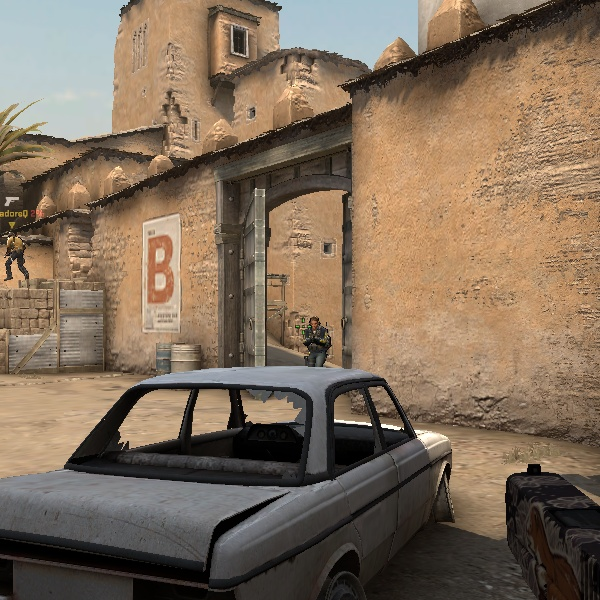ct_body: (299, 316, 332, 366)
ct_head: (308, 316, 321, 330)
